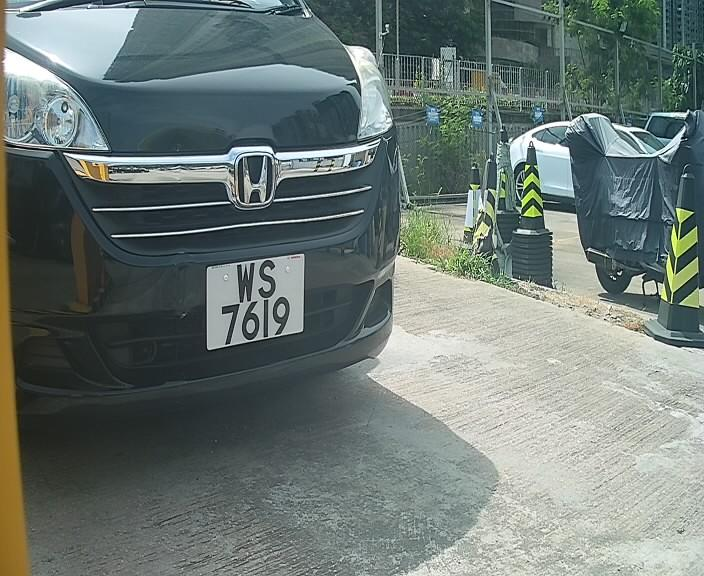License Plate: (198, 247, 315, 355)
